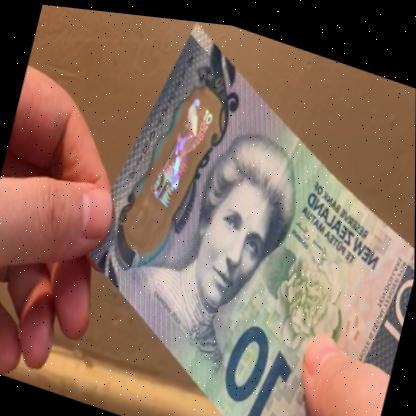10B: (143, 76, 221, 222)
